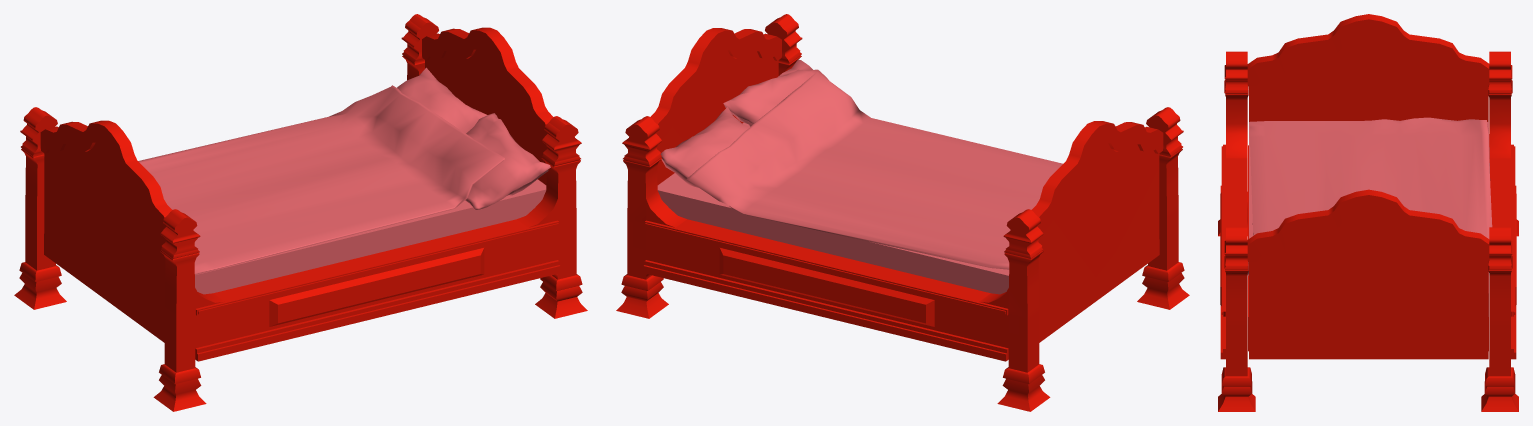
The model's file is Bed.fbx.
The picture shows the model from 3 angles, left to right: view 1: azimuth 30°, elevation 25°; view 2: azimuth 150°, elevation 25°; view 3: azimuth 270°, elevation 25°; orthographic projection. The views are drawn at different scales.
Visible parts, largest first — view 1: Bedpart-01_low.001; view 2: Bedpart-01_low.001; view 3: Bedpart-01_low.001.
Part boxes in pixels (x1,y1,x2,y2): Bedpart-01_low.001: (14, 14, 587, 411); Bedpart-01_low.001: (616, 14, 1189, 411); Bedpart-01_low.001: (1218, 14, 1518, 411).
Bounding box in the file's own units: 299 × 199 × 155.
